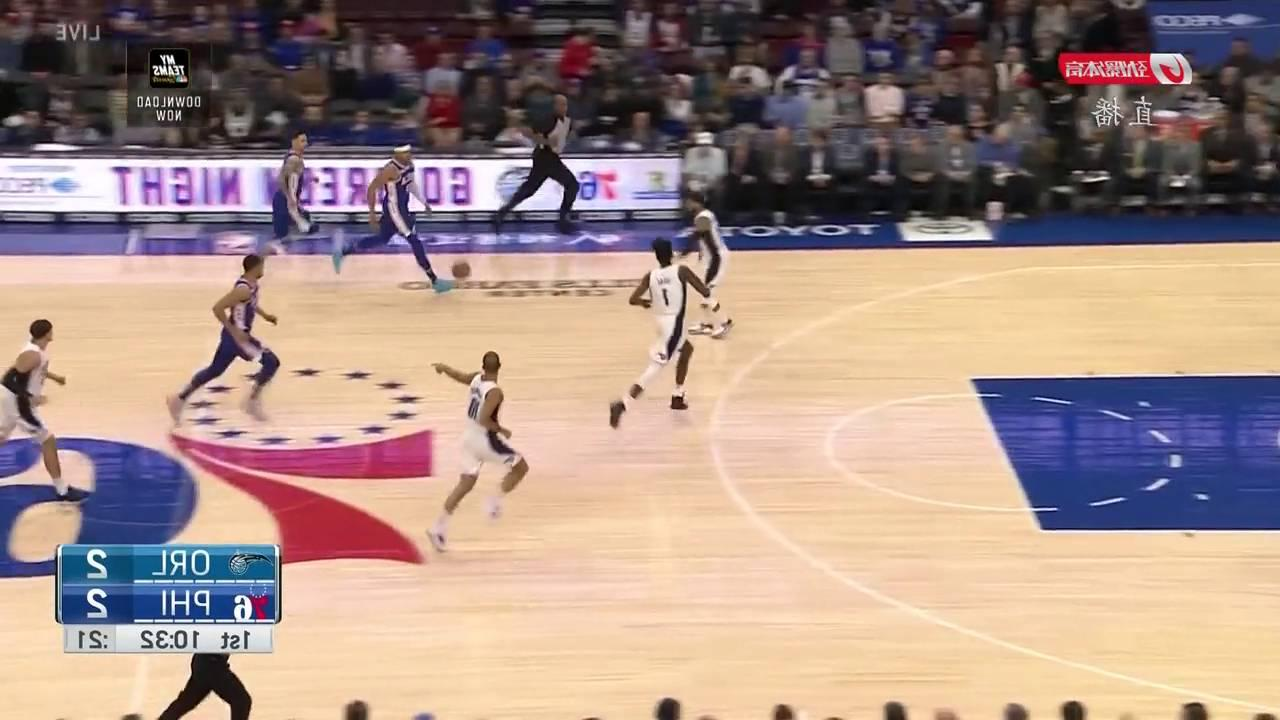basketball: (450, 258, 473, 283)
